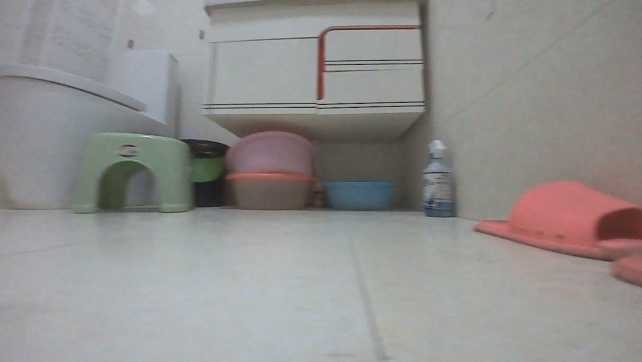plastic_stool: (70, 129, 193, 215)
slipper: (471, 180, 641, 260)
toilet: (0, 43, 180, 210)
washstand: (196, 0, 426, 140)
